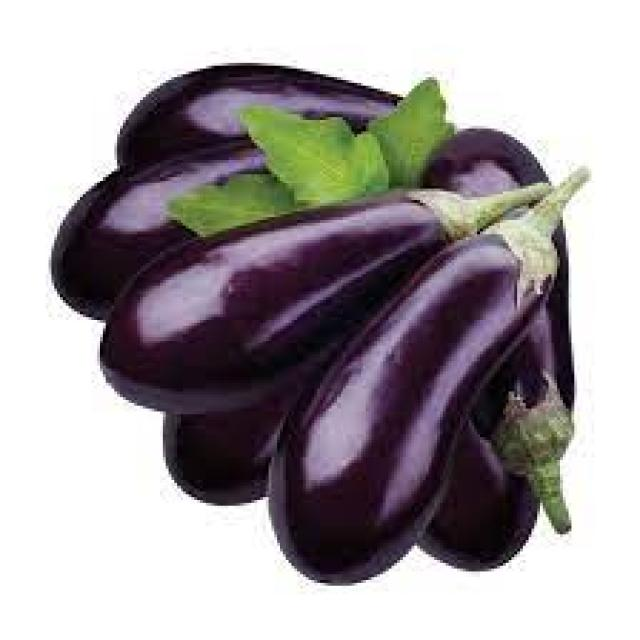eggplant: (268, 217, 552, 583), (97, 189, 466, 414), (49, 143, 414, 314), (420, 126, 571, 531)
